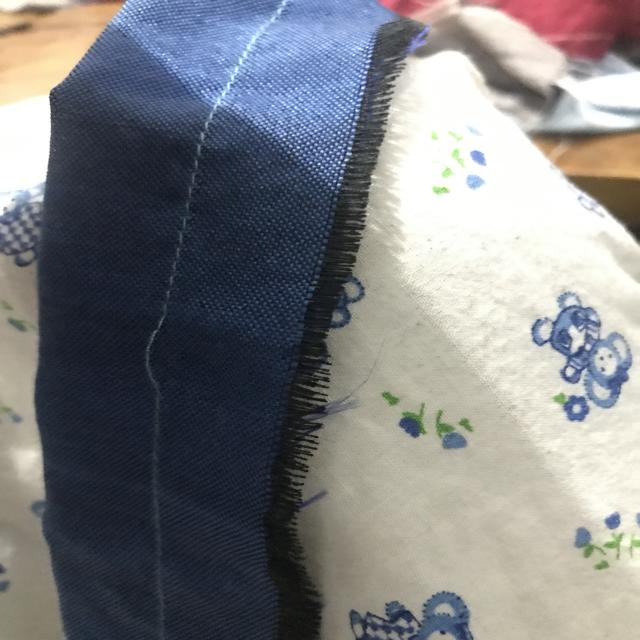good: (176, 150, 213, 248)
skip: (140, 289, 200, 424)
